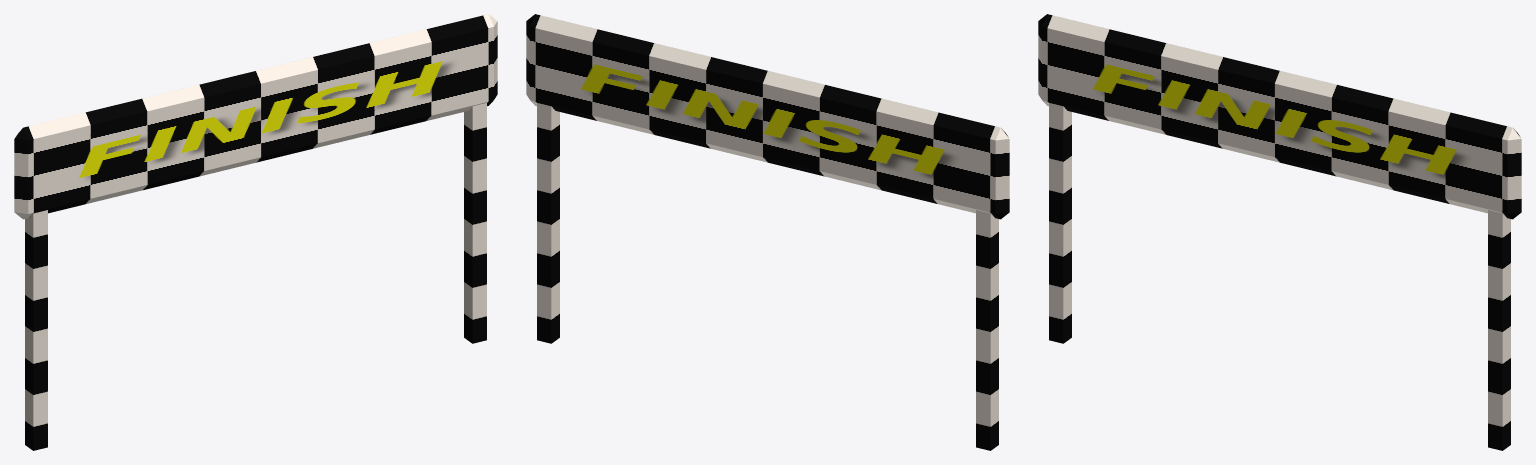
The model's file is finishline.glb.
The picture shows the model from 3 angles, left to right: view 1: azimuth 30°, elevation 25°; view 2: azimuth 150°, elevation 25°; view 3: azimuth 330°, elevation 25°; orthographic projection.
Parts seen in each view (by area): view 1: cube3-convcol, cube2-convcol, cube1-convcol; view 2: cube3-convcol, cube2-convcol, cube1-convcol; view 3: cube3-convcol, cube1-convcol, cube2-convcol.
Boxes of the visible parts, left/top/right/bottom form: cube3-convcol: left=14, top=14, right=497, bottom=219; cube2-convcol: left=25, top=210, right=47, bottom=450; cube1-convcol: left=464, top=103, right=486, bottom=343; cube3-convcol: left=526, top=14, right=1009, bottom=219; cube2-convcol: left=976, top=210, right=998, bottom=450; cube1-convcol: left=537, top=103, right=559, bottom=343; cube3-convcol: left=1038, top=14, right=1521, bottom=219; cube1-convcol: left=1488, top=210, right=1510, bottom=450; cube2-convcol: left=1049, top=103, right=1071, bottom=343.
Bounding box in the file's own units: 66 × 42 × 2.4.
1 material, 1 textured.
